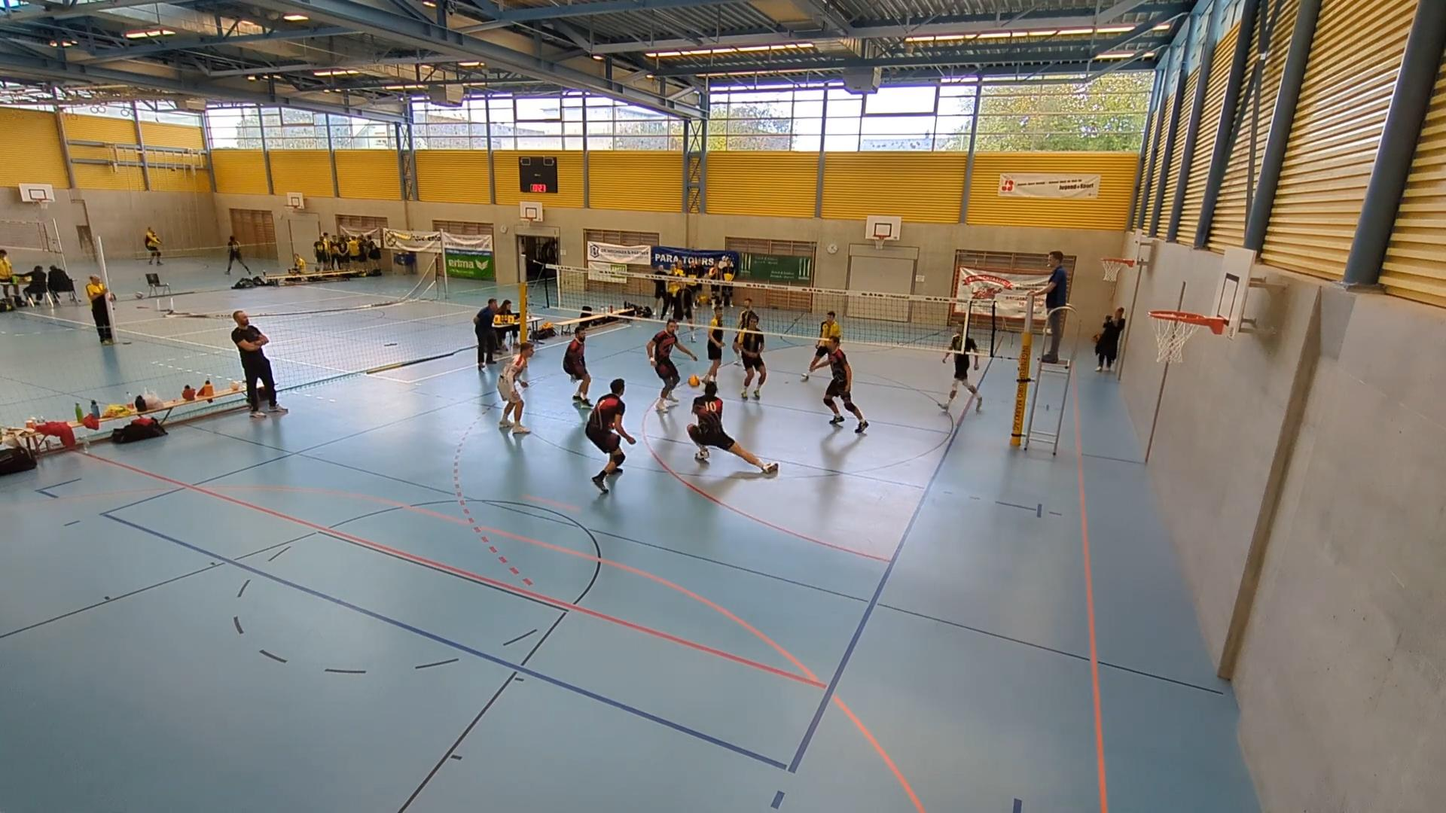Dig: (684, 374, 781, 477)
Player: (584, 378, 635, 493), (645, 319, 697, 412), (823, 339, 868, 433), (941, 323, 981, 411), (497, 342, 533, 434), (802, 311, 840, 381), (737, 315, 767, 399), (563, 325, 591, 406), (704, 303, 725, 382), (737, 297, 755, 332)
ball: (688, 374, 709, 386)
